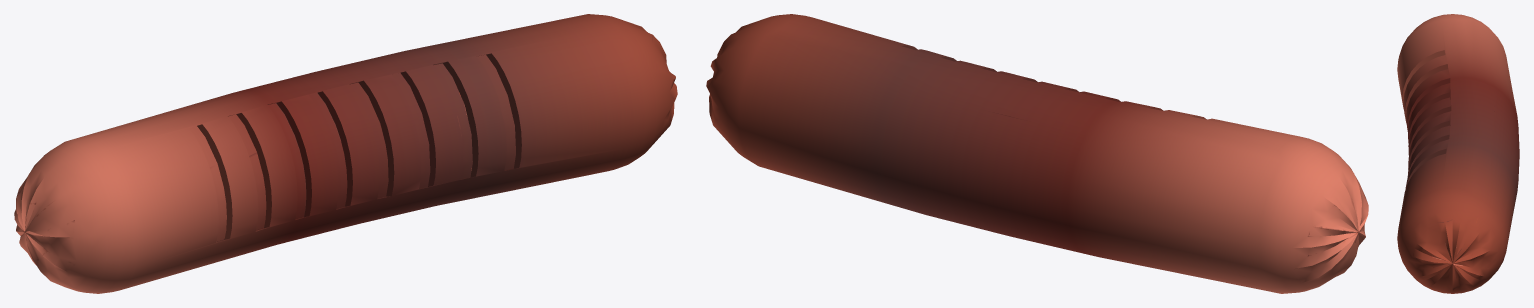
The model's file is HotDog2.fbx.
3 views of the same model, side by side, from view 1: azimuth 30°, elevation 25°; view 2: azimuth 150°, elevation 25°; view 3: azimuth 270°, elevation 25° (orthographic). The views are drawn at different scales.
Parts seen in each view (by area): view 1: sausage.001; view 2: sausage.001; view 3: sausage.001.
Part boxes in pixels (box(x1,y1,x2,y2)): sausage.001: box(14, 14, 677, 293); sausage.001: box(706, 14, 1368, 293); sausage.001: box(1397, 14, 1519, 293).
Bounding box in the file's own units: 14.72 × 3.15 × 3.48.
Materials: 1 (1 with a texture image).
